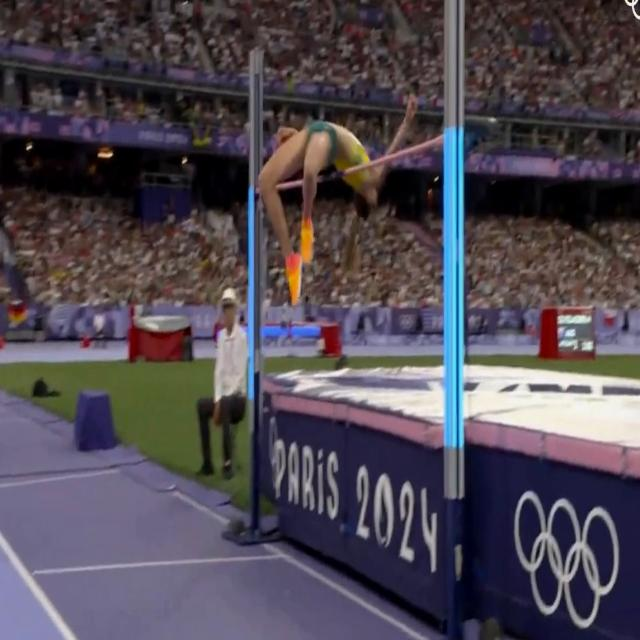jump: (258, 98, 423, 307)
